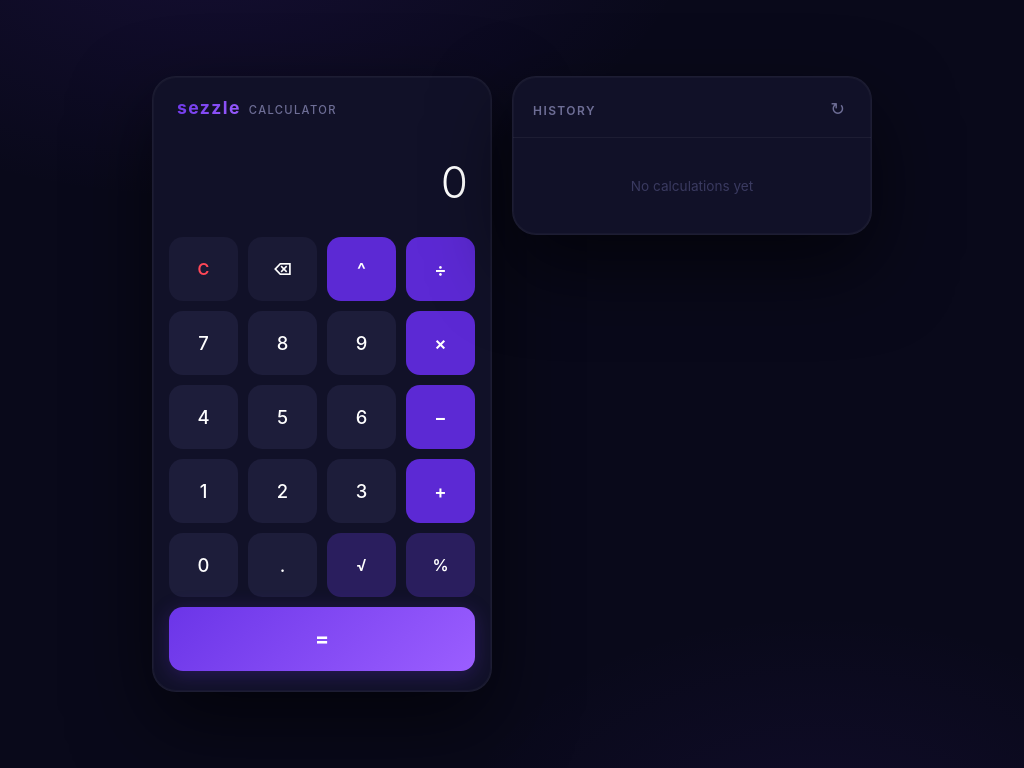
Calculator — interactions › shows error message for division by zero
Click the button "5" at (282, 417), box [248, 385, 317, 449]
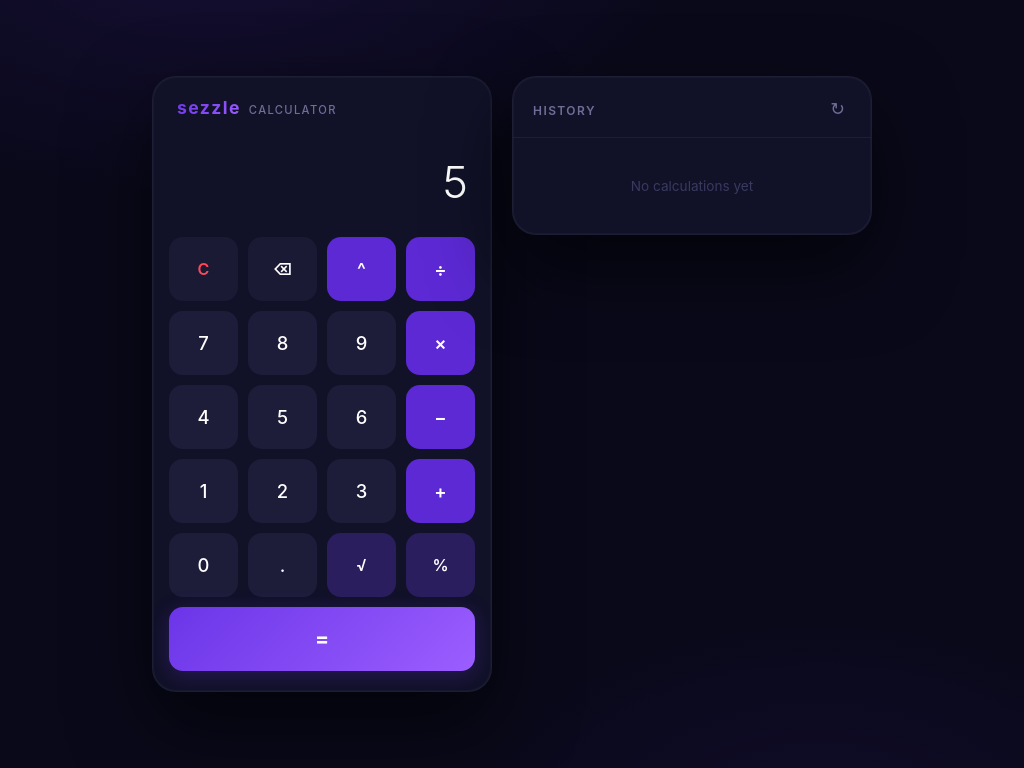
Click the button named "divide" at (440, 269), box [406, 237, 475, 301]
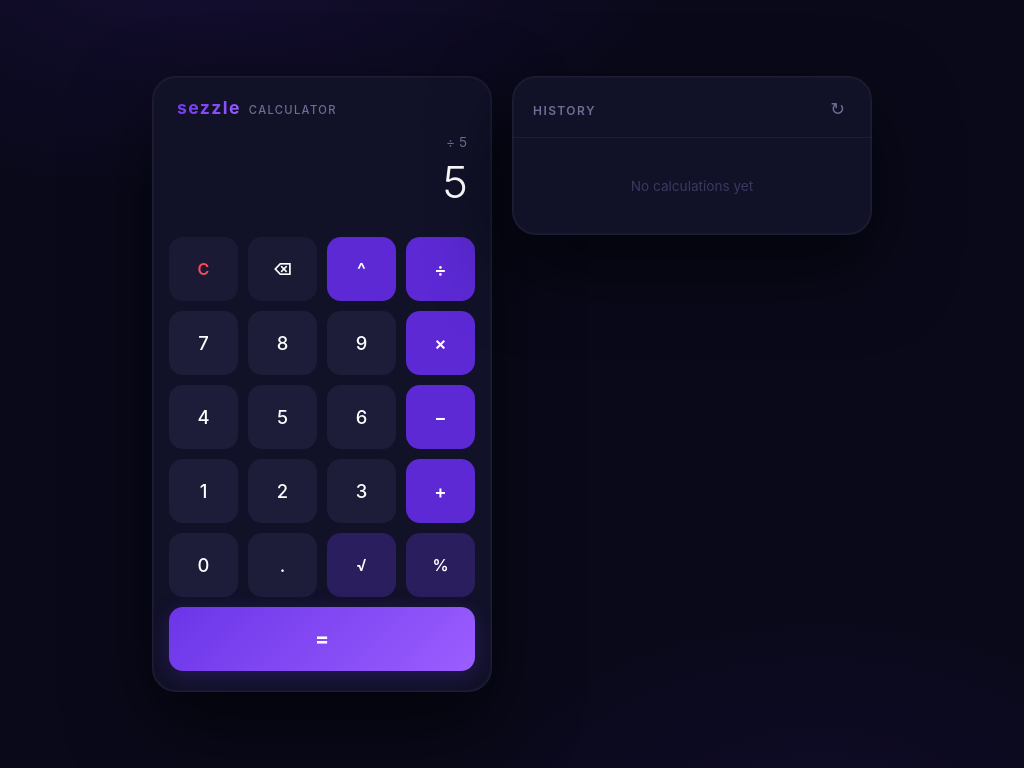
Click the button "0" at (204, 565), box [169, 533, 238, 597]
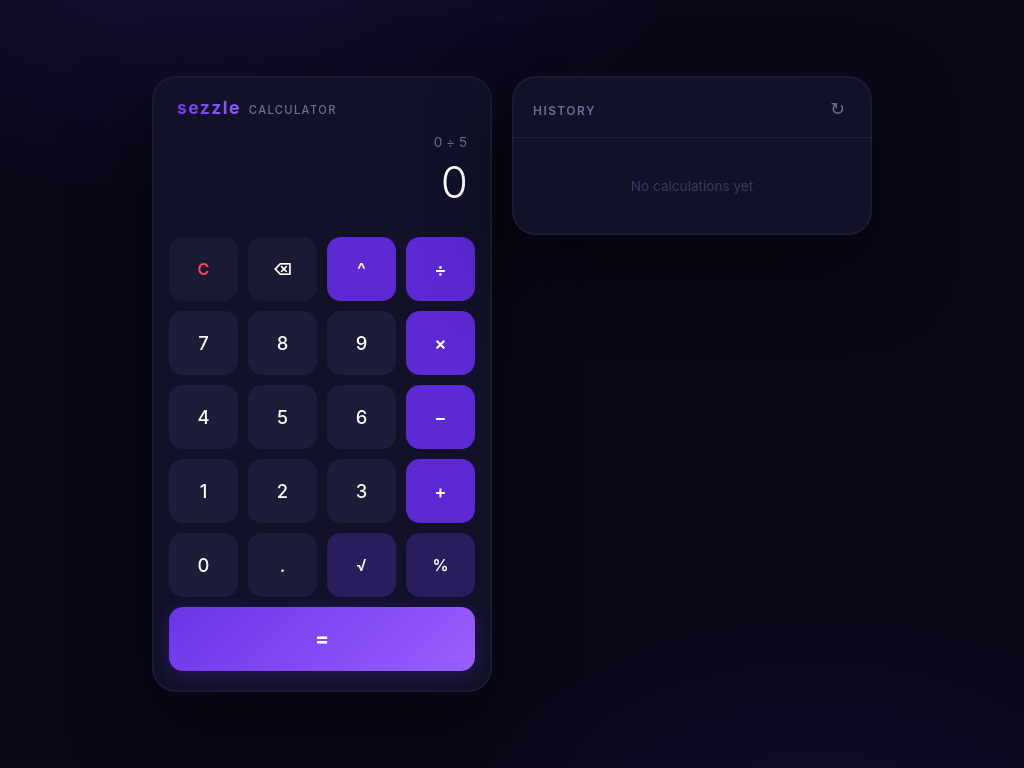
Click the button "=" at (322, 639), box [169, 607, 475, 671]
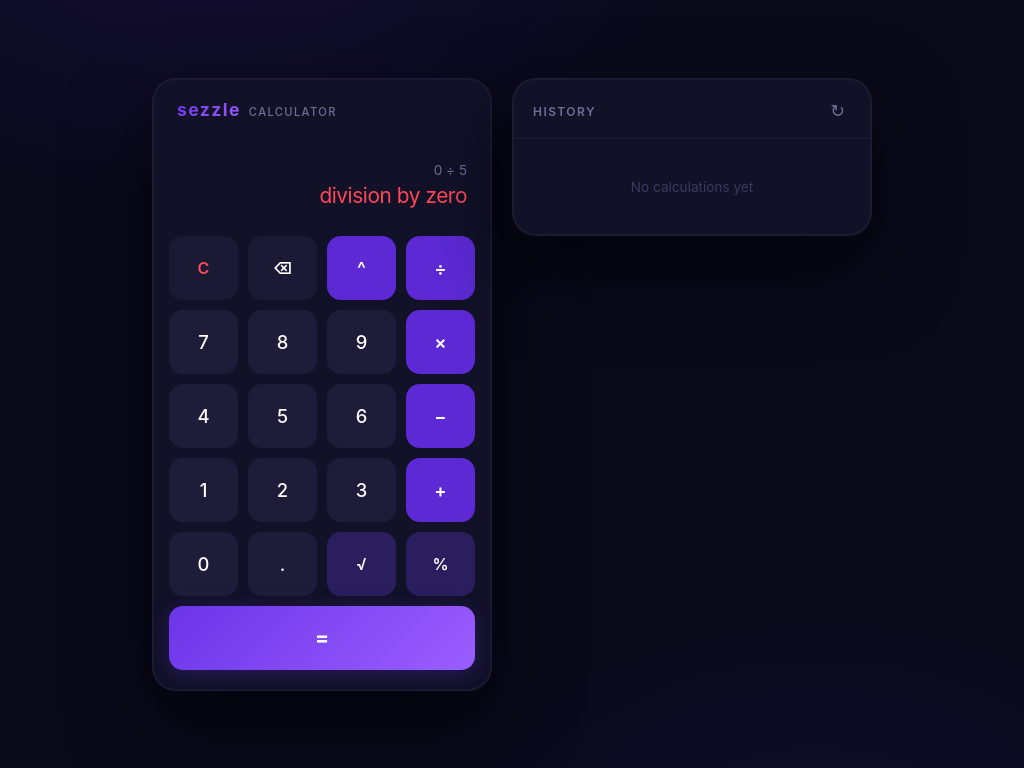
Expected: the text "division by zero" is shown, [319, 182, 467, 208]
